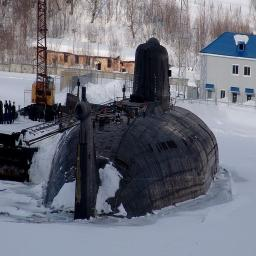submarine: (42, 35, 226, 223)
